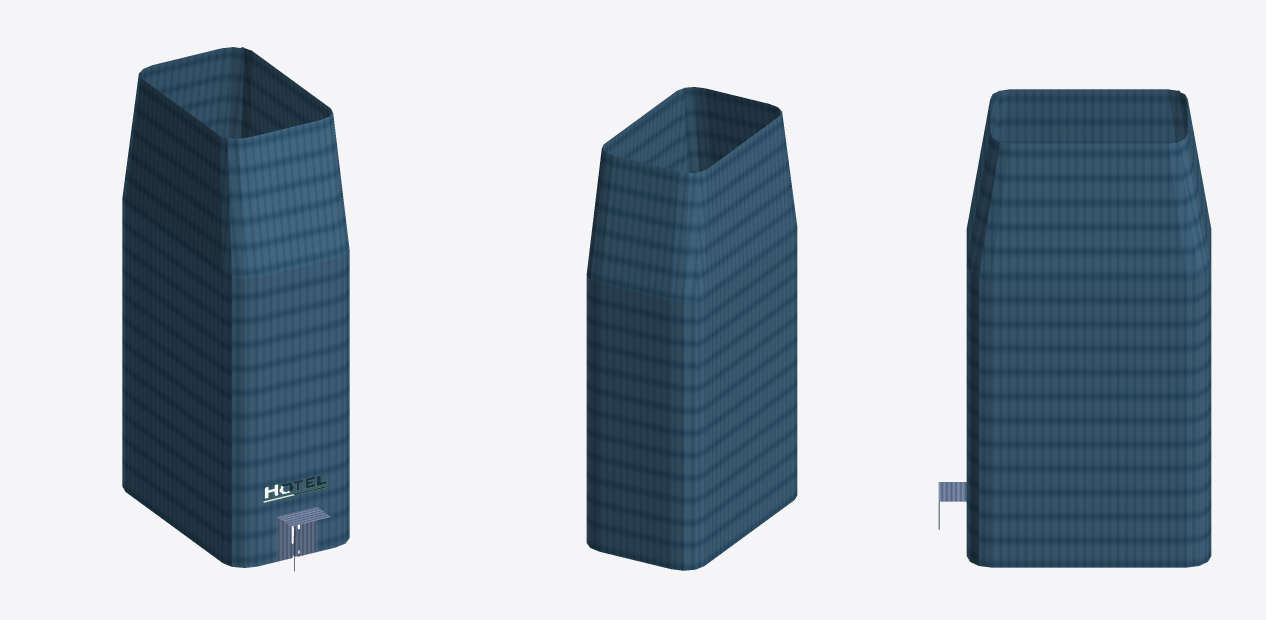
Rendered from BuildingSkyLOD.fbx.
The picture shows the model from 3 angles, left to right: view 1: azimuth 30°, elevation 25°; view 2: azimuth 150°, elevation 25°; view 3: azimuth 270°, elevation 25°; orthographic projection. The views are drawn at different scales.
Visible parts, largest first — view 1: Skyscraper_LOD0; view 2: Skyscraper_LOD0; view 3: Skyscraper_LOD0.
Part boxes in pixels (x1=…): Skyscraper_LOD0: x1=122, y1=47, x2=349, y2=571; Skyscraper_LOD0: x1=586, y1=87, x2=797, y2=570; Skyscraper_LOD0: x1=938, y1=89, x2=1211, y2=567.
Size of what is drawn, in the model's own units: 400 by 710 by 400.
